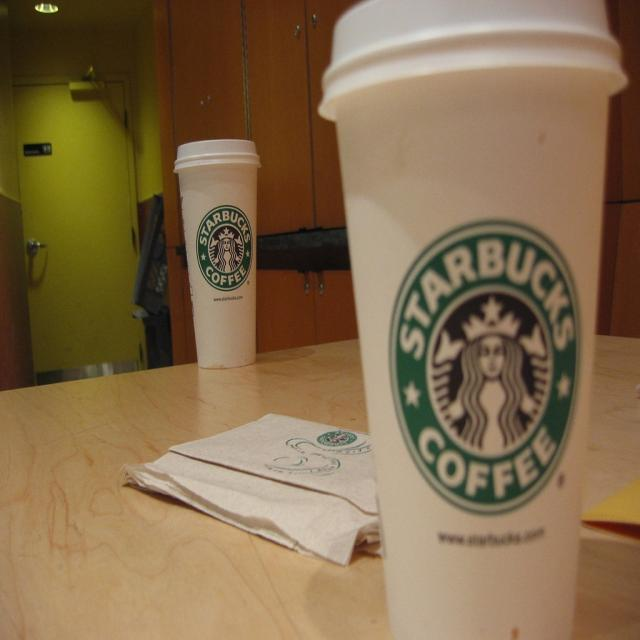starbucks: (389, 219, 584, 520), (198, 205, 254, 292)
